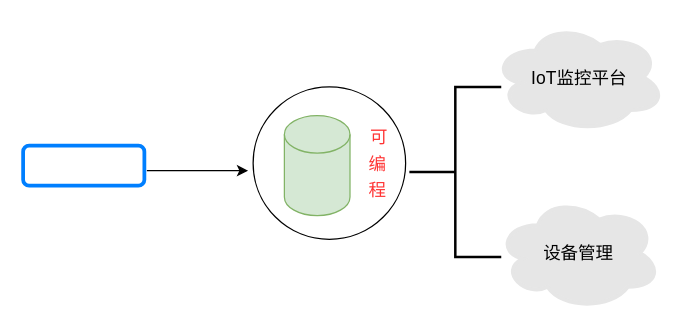
This 689x333 diagram has some shape labels left out. Here are the shapes that lost their labels. From the top down, the centre of each, then its label:
At [83,165]: "IoT设备".
At [316,165]: "边缘计算产品".
